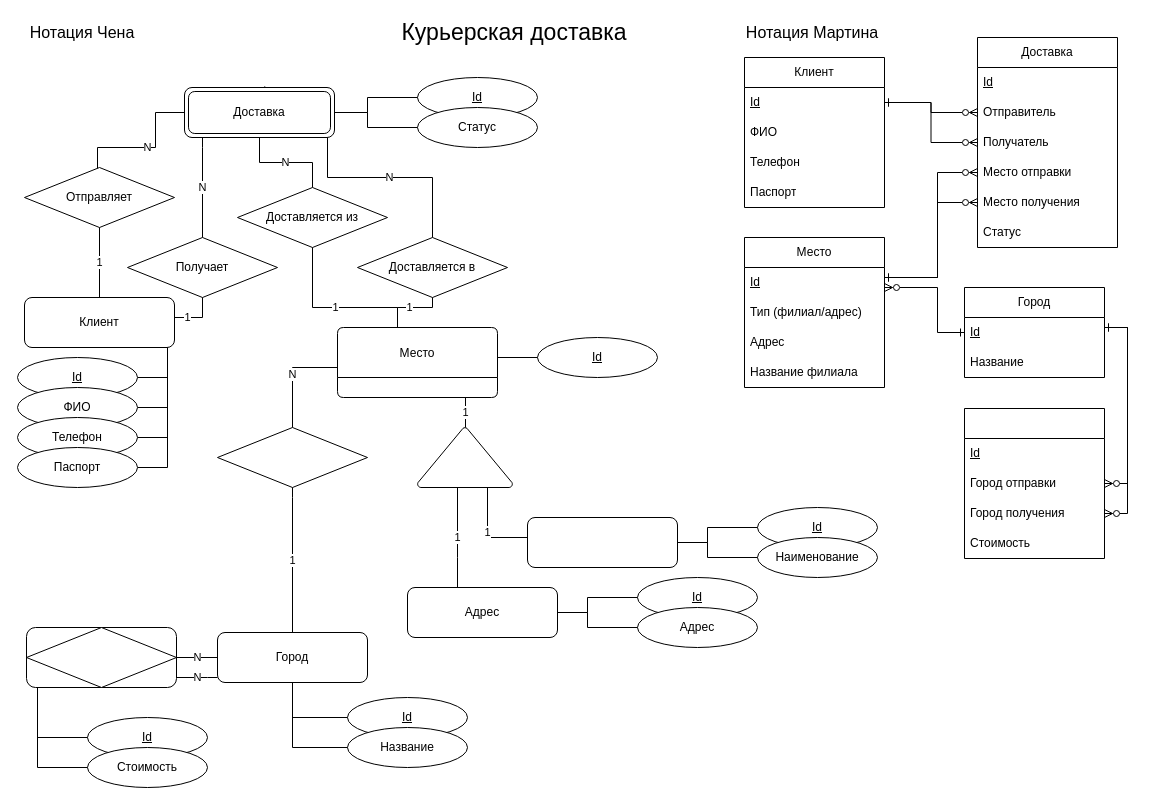
The diagram is 1154 pixels wide and 805 high, and some of its shapes have lost their labels. The box of each missing label's shape, as (x1, y1, x2, y2) in pixels:
Доставка стоит: (26, 626, 176, 688)
Находится в: (216, 426, 368, 488)
Стоимость межгорода: (964, 408, 1104, 558)
Филиал: (526, 516, 678, 568)
Является: (416, 426, 512, 488)
